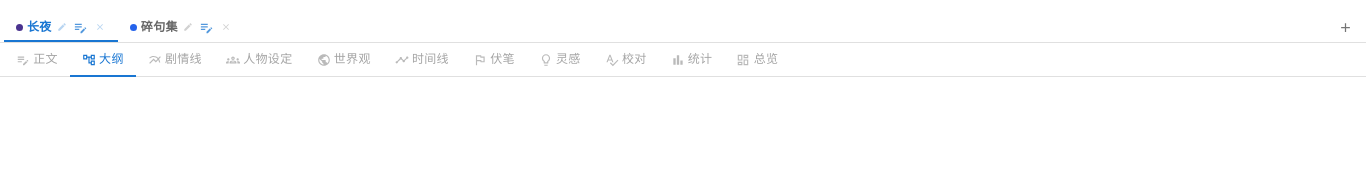
Test: SceneTabBar · L1 = 作品页签 › 双击书名 → 进入改名；确认后 renameBook 落库（书名 = L1 页签名）
Double-click the tab "碎句集" at (181, 27), box [118,12,244,42]
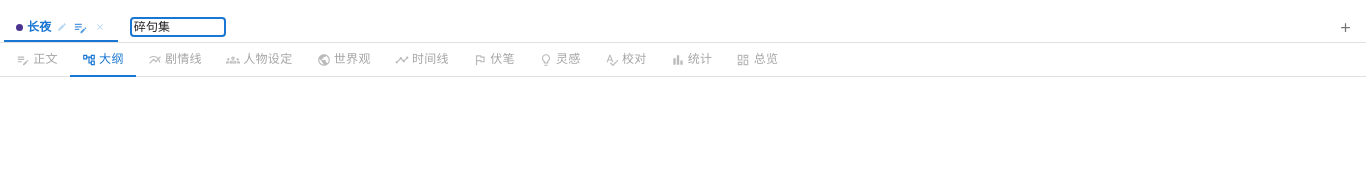
Expected: the field holds "碎句集", [130,17,226,37]
